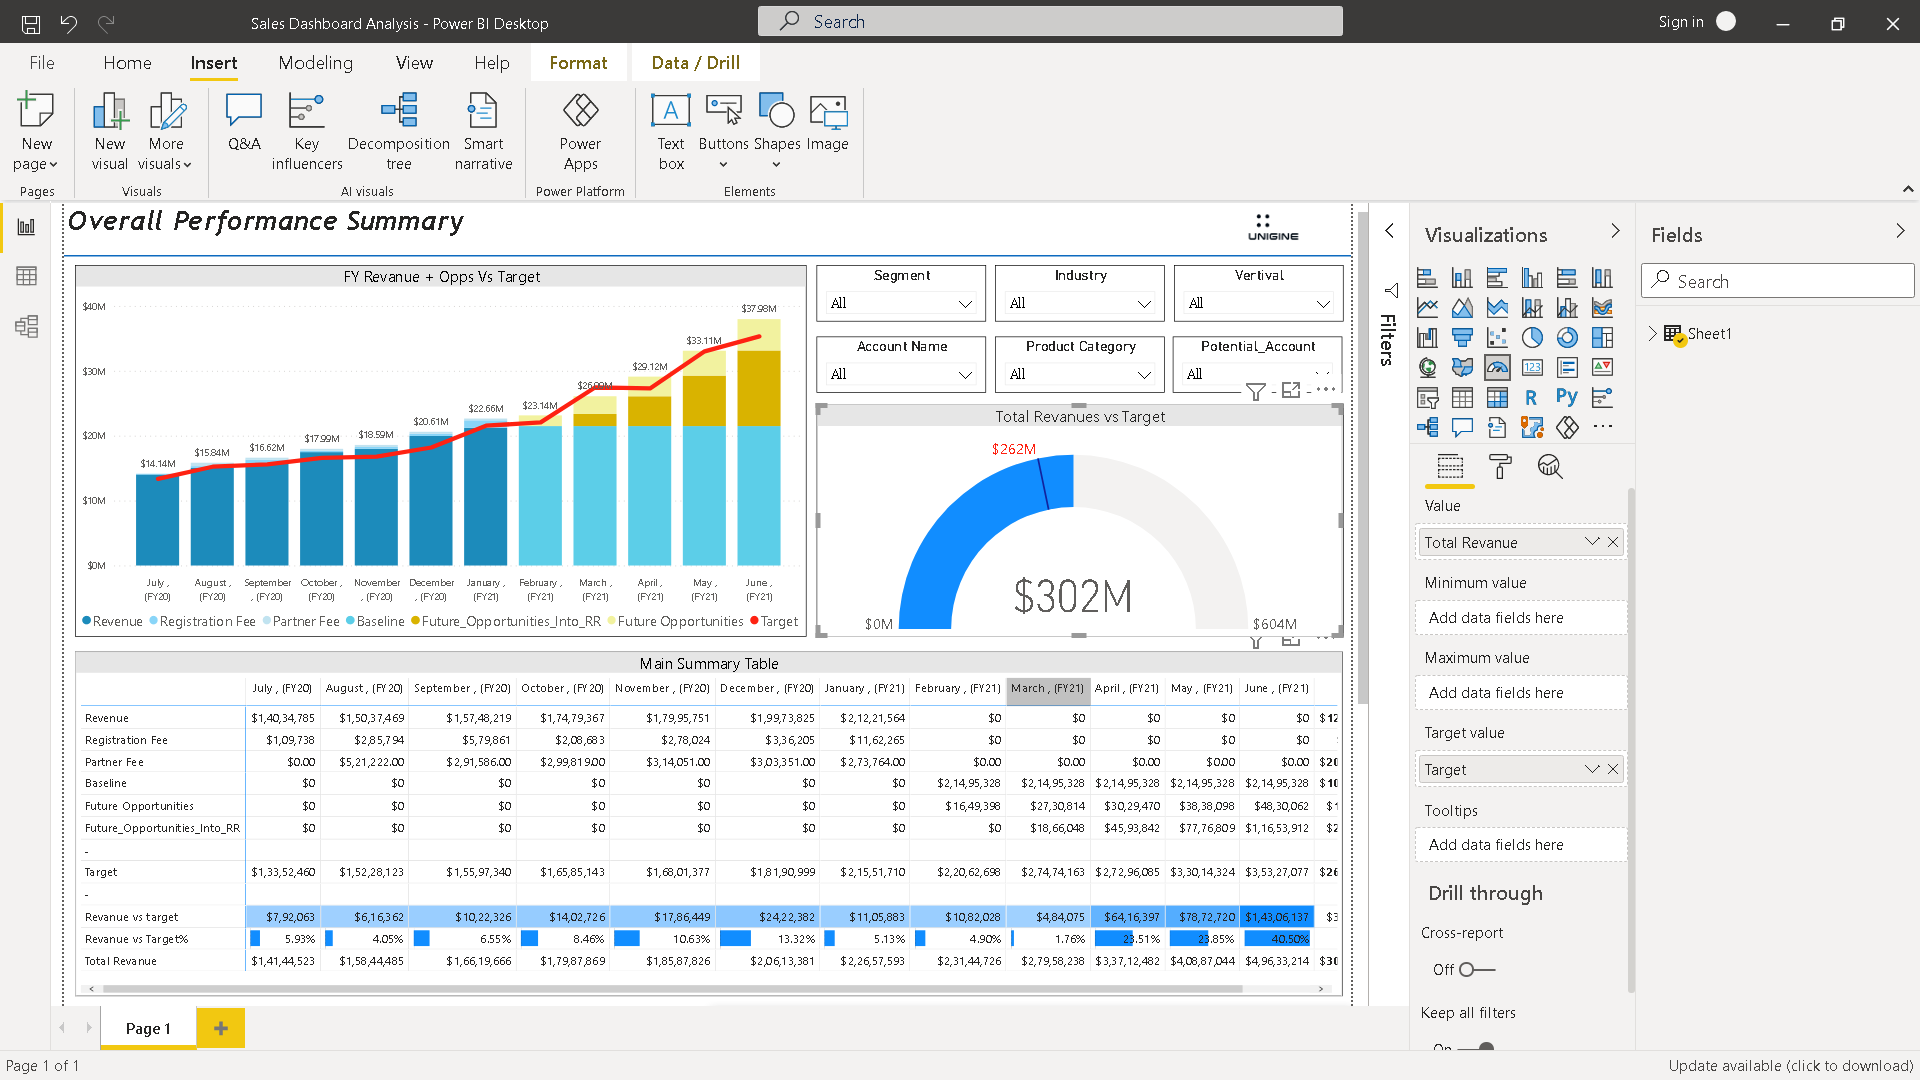

What the dashboard file says about the page in this screenshot:
{"tool":"powerbi","page":{"name":"Page 1","canvas":[1500,1500],"ordinal":0},"visuals":[{"type":"pivotTable","title":"Main Summary  Table","fields":{"Values":["Sheet1.Revenue","Sheet1.Registration_Fee","Sheet1.Partner_Fee","Sheet1.Baseline","Sheet1.Future Opportunities","Sheet1.Future_Opportunities_Into_RR","Sheet1.empty","Sheet1.Target","Sheet1.empty","Sheet1.Revanue vs target","Sheet1.Revanue vs Target%","Sheet1.Total Revanue"],"Columns":["Sheet1.Fiscal_Month"]},"box":[13.1,527.2,1476.7,401.9],"z":0},{"type":"lineStackedColumnComboChart","title":"FY Revanue + Opps Vs Target","fields":{"Category":["Sheet1.Fiscal_Month"],"Y":["Sheet1.Revenue","Sheet1.Registration_Fee","Sheet1.Partner_Fee","Sheet1.Baseline","Sheet1.Future_Opportunities_Into_RR","Sheet1.Future Opportunities"],"Y2":["Sheet1.Target"]},"box":[13.1,77.2,851.9,432.5],"z":1},{"type":"shape","box":[0,55.3,1500,21.8],"z":2},{"type":"textbox","box":[0,0,782.7,50.1],"z":3},{"type":"slicer","title":"Segment","fields":{"Values":["Sheet1.Segment"]},"box":[876,76.6,197.8,65.5],"z":4},{"type":"slicer","title":"Vertival","fields":{"Values":["Sheet1.Vertical"]},"box":[1292.5,76.6,197.8,65.5],"z":5},{"type":"slicer","title":"Industry","fields":{"Values":["Sheet1.Industry"]},"box":[1085,76.6,197.8,65.5],"z":6},{"type":"slicer","title":"Account Name","fields":{"Values":["Sheet1.Account_Name"]},"box":[876,159.5,197.8,65.5],"z":7},{"type":"slicer","title":"Product Category","fields":{"Values":["Sheet1.Product_Category"]},"box":[1085,159.5,197.8,65.5],"z":8},{"type":"slicer","title":"Potential_Account","fields":{"Values":["Sheet1.Potential_Account"]},"box":[1292.2,159.5,197.8,65.5],"z":9},{"type":"gauge","title":"Total Revanues vs Target","fields":{"Y":["Sheet1.Total Revanue"],"TargetValue":["Sheet1.Target"]},"box":[876,238.2,614.2,271.6],"z":10},{"type":"tableEx","title":"Segment Summary","fields":{"Values":["Sheet1.Segment","Sheet1.Total Revanue","Sheet1.Target","Sheet1.Revanue vs target","Sheet1.Revanue vs Target%"]},"box":[12.5,940.1,714.5,277.2],"z":11},{"type":"tableEx","title":"Product Category Summary","fields":{"Values":["Sheet1.Product_Category","Sheet1.Total Revanue","Sheet1.Target","Sheet1.Revanue vs target","Sheet1.Revanue vs Target%"]},"box":[12.5,1231.2,714.5,192.2],"z":12},{"type":"treemap","title":"Registration Fee Summary","fields":{"Group":["Sheet1.Industry"],"Values":["Sheet1.Registration_Fee"]},"box":[750,940.8,739.8,482],"z":13},{"type":"image","box":[1326.8,0,164.3,66.2],"z":14}]}

Visuals, with their boxes on the page's 1500x1500 design canvas (x1, y1, x2, y2). These are canvas units, not pixel positions in the 1920x1080 screenshot, which may show the page scaled, cropped or inside an application window:
"Main Summary  Table" pivotTable: 13 527 1490 929
"FY Revanue + Opps Vs Target" lineStackedColumnComboChart: 13 77 865 510
shape: 0 55 1500 77
textbox: 0 0 783 50
"Segment" slicer: 876 77 1074 142
"Vertival" slicer: 1292 77 1490 142
"Industry" slicer: 1085 77 1283 142
"Account Name" slicer: 876 160 1074 225
"Product Category" slicer: 1085 160 1283 225
"Potential_Account" slicer: 1292 160 1490 225
"Total Revanues vs Target" gauge: 876 238 1490 510
"Segment Summary" tableEx: 12 940 727 1217
"Product Category Summary" tableEx: 12 1231 727 1423
"Registration Fee Summary" treemap: 750 941 1490 1423
image: 1327 0 1491 66
